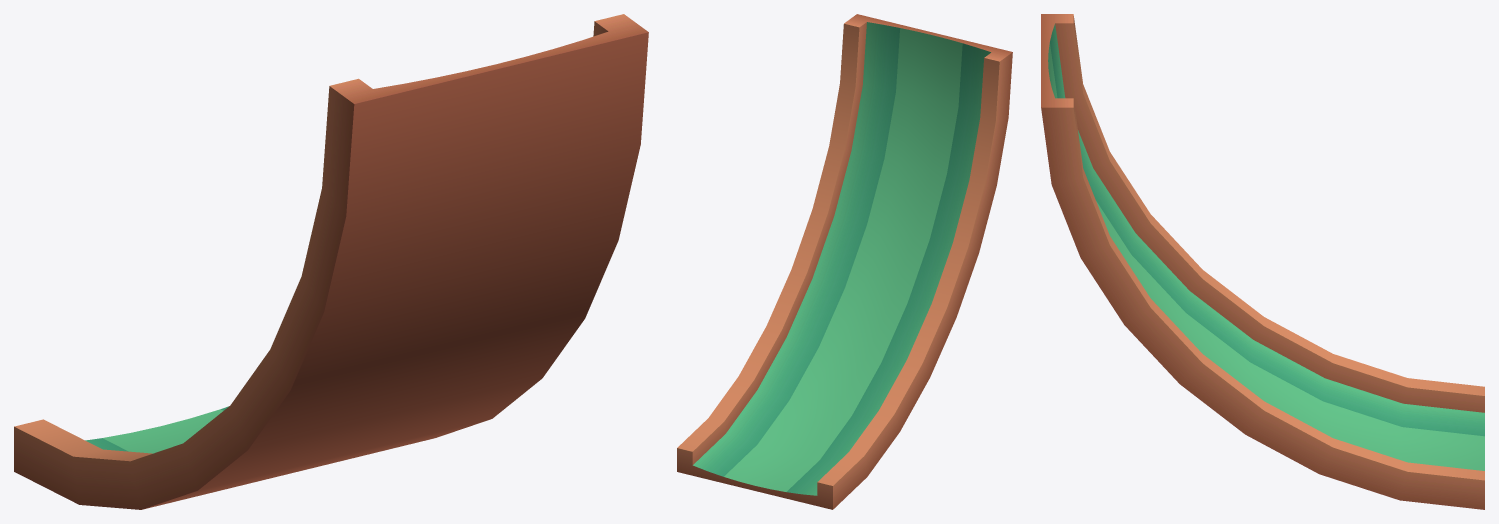
Rendered from spline-concave-straight-bend.glb.
The picture shows the model from 3 angles, left to right: view 1: azimuth 30°, elevation 25°; view 2: azimuth 150°, elevation 25°; view 3: azimuth 270°, elevation 25°; orthographic projection. The views are drawn at different scales.
Parts seen in each view (by area): view 1: spline-concave-straight-bend; view 2: spline-concave-straight-bend; view 3: spline-concave-straight-bend.
Part boxes in pixels (x1,y1,x2,y2): spline-concave-straight-bend: [14, 14, 648, 509]; spline-concave-straight-bend: [677, 14, 1012, 509]; spline-concave-straight-bend: [1041, 14, 1484, 509].
Size of the model in its own units: 0.9998 by 2 by 2.
1 material, 1 textured.
